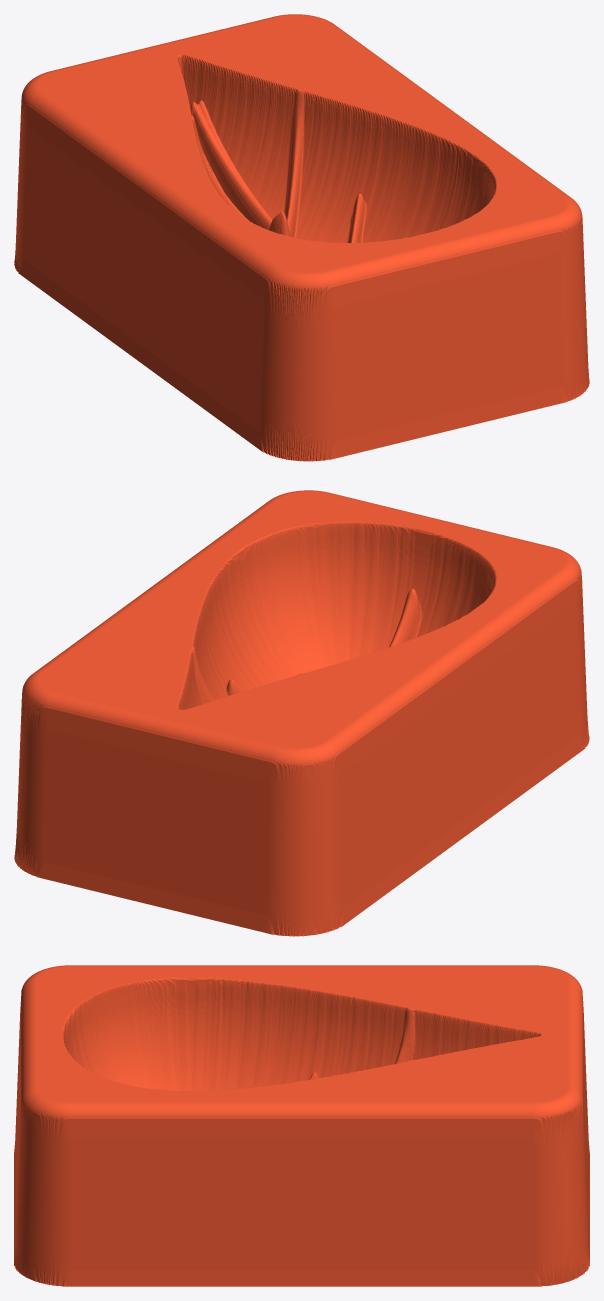
File: mold.glb
3 views of the same model, one above another, from view 1: azimuth 30°, elevation 25°; view 2: azimuth 150°, elevation 25°; view 3: azimuth 270°, elevation 25° (orthographic). The views are drawn at different scales.
Visible parts, largest first — view 1: geometry_0; view 2: geometry_0; view 3: geometry_0.
Boxes of the visible parts, box(x1,y1,x2,y2) form: geometry_0: box(14, 14, 589, 461); geometry_0: box(14, 490, 589, 936); geometry_0: box(14, 965, 589, 1286).
Size of the model in its own units: 0.0586 by 0.031 by 0.0924.
